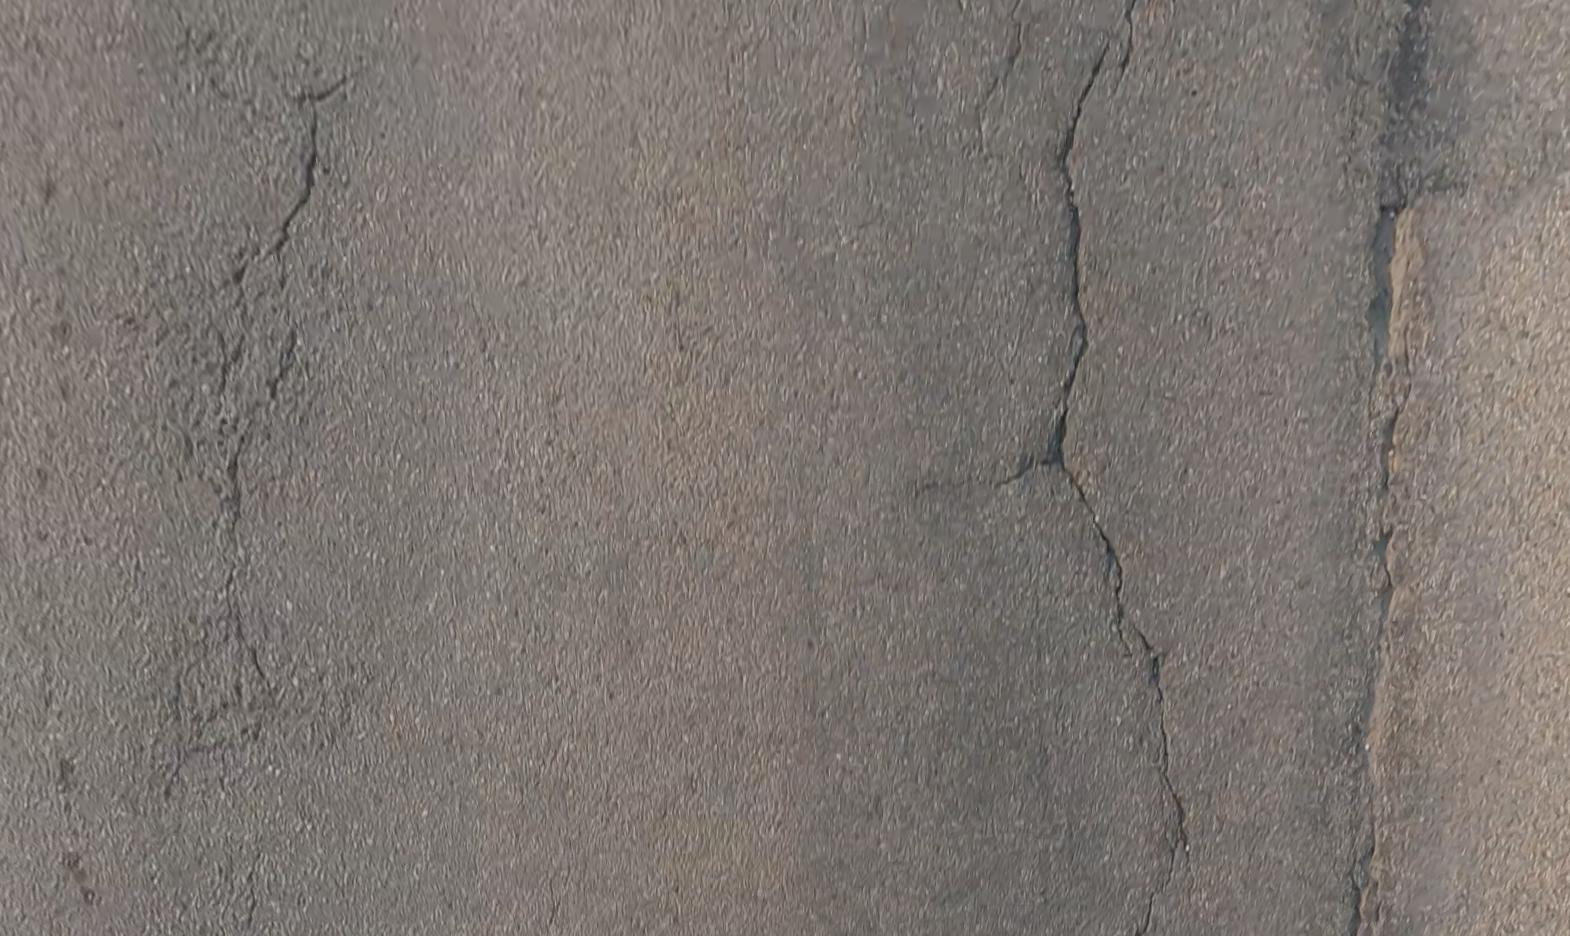pothole: (1371, 203, 1404, 370)
